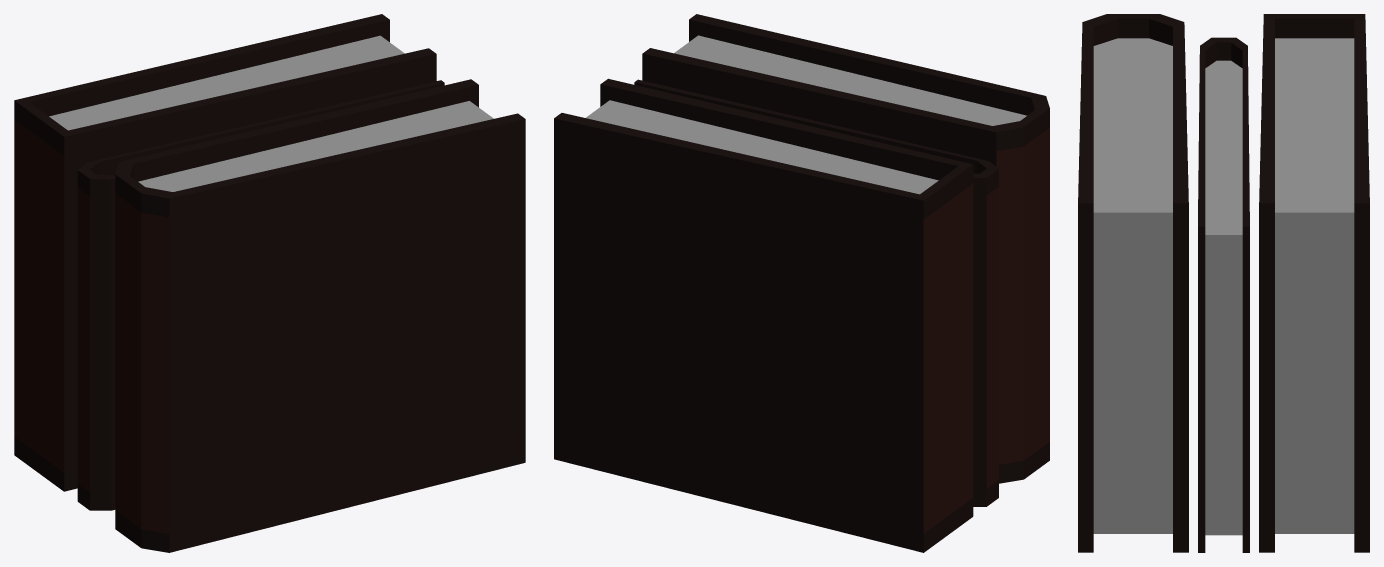
Rendered from Triple Book.FBX.
3 renders of one model, left to right at view 1: azimuth 30°, elevation 25°; view 2: azimuth 150°, elevation 25°; view 3: azimuth 270°, elevation 25°, orthographic. The views are drawn at different scales.
Parts seen in each view (by area): view 1: Box001, Box002, Box003; view 2: Box002, Box001, Box003; view 3: Box002, Box001, Box003.
Boxes of the visible parts, bbox=[...] form: Box001: bbox=[115, 79, 525, 552]; Box002: bbox=[14, 14, 436, 491]; Box003: bbox=[77, 80, 444, 510]; Box002: bbox=[554, 78, 973, 552]; Box001: bbox=[642, 14, 1049, 483]; Box003: bbox=[634, 79, 998, 506]; Box002: bbox=[1259, 14, 1369, 552]; Box001: bbox=[1078, 14, 1188, 552]; Box003: bbox=[1198, 37, 1249, 552].
Bounding box in the file's own units: 48.9 × 44.8 × 32.86.
